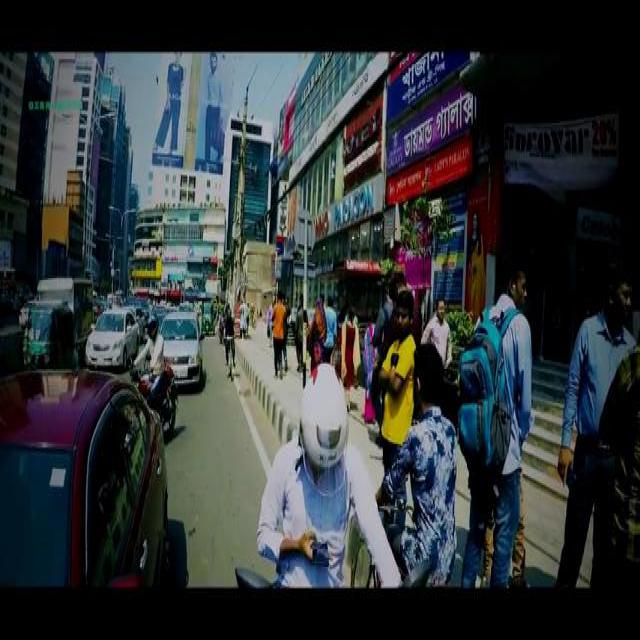bicycle: (222, 334, 236, 374)
car: (0, 368, 170, 582), (159, 308, 203, 382), (85, 305, 139, 364)
motorbike: (127, 359, 177, 438)
three wheelers -CNG-: (26, 300, 72, 366), (199, 298, 213, 330)
